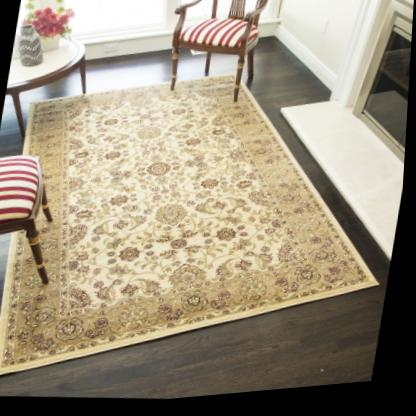Carpet: (0, 75, 384, 375)
